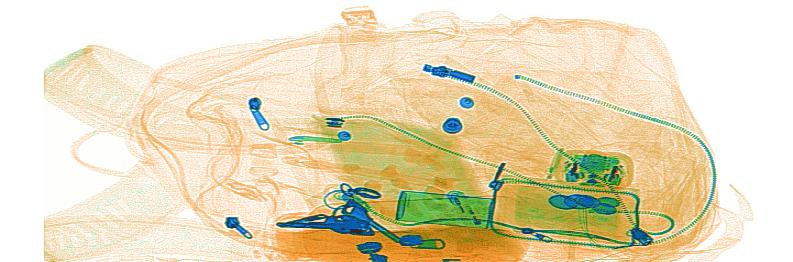lighter: (443, 187, 504, 250)
